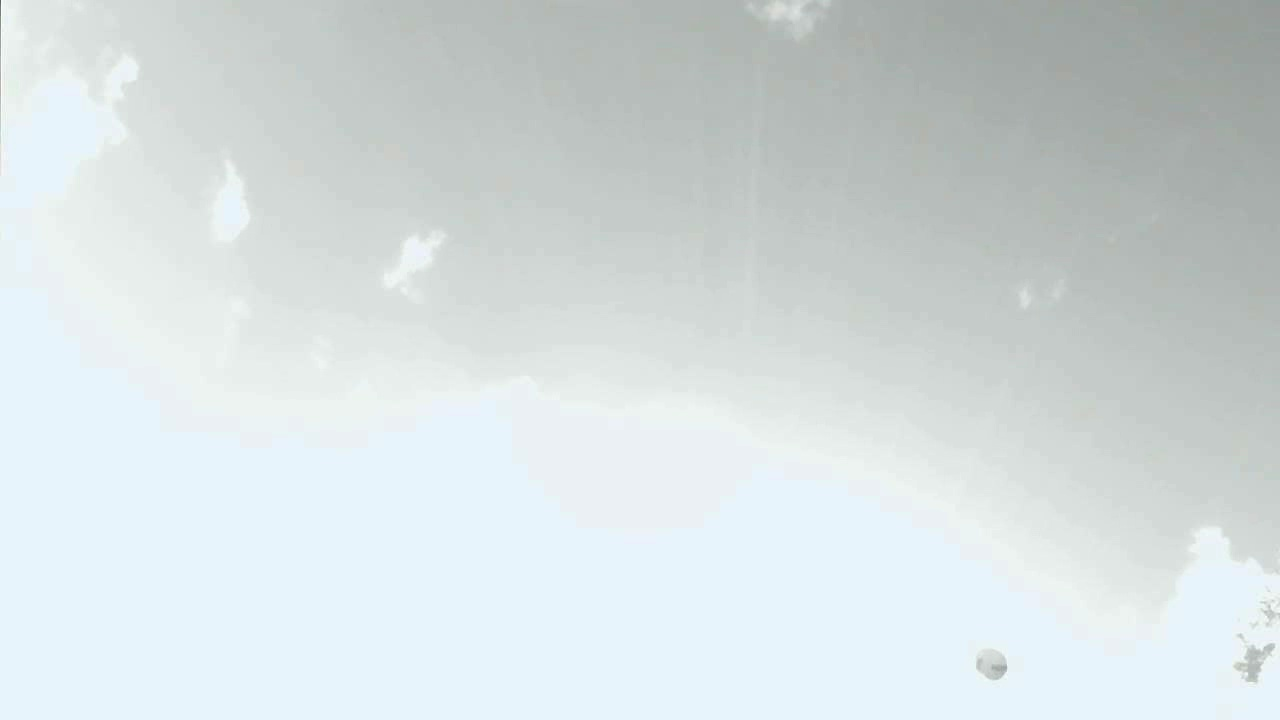Football-Spotter: (976, 648, 1007, 679)
